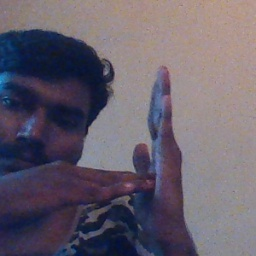Z: (73, 60, 193, 248)
